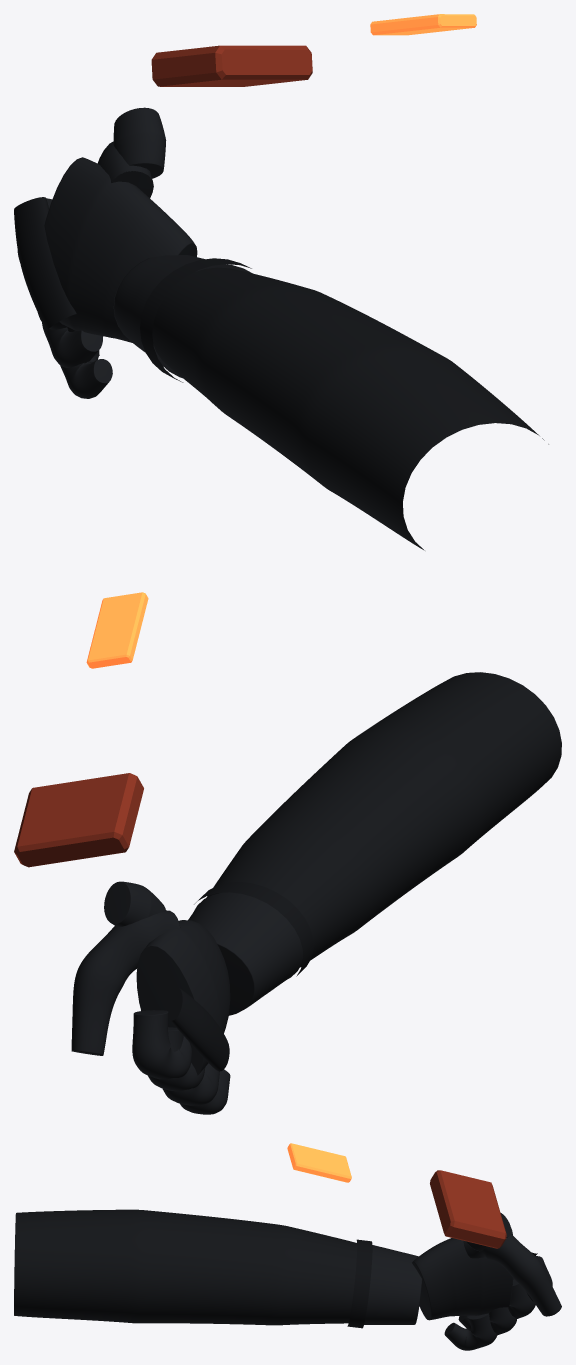
The model's file is hands_ember_charge.glb.
The picture shows the model from 3 angles, top to bottom: view 1: azimuth 30°, elevation 25°; view 2: azimuth 150°, elevation 25°; view 3: azimuth 270°, elevation 25°; orthographic projection. The views are drawn at different scales.
Visible parts, largest first — view 1: hand_l_forearm, hand_l_palm, hand_l_cuff_plate, hand_l_knuckle_panel, hand_l_cuff, hand_l_web, hand_l_cuff_strap, hand_l_lamp, hand_l_ring, hand_l_little, hand_l_thumb; view 2: hand_l_forearm, hand_l_cuff_plate, hand_l_cuff, hand_l_palm, hand_l_thumb, hand_l_lamp, hand_l_index, hand_l_knuckle_panel, hand_l_web, hand_l_cuff_strap, hand_l_ring, hand_l_middle (+1 smaller); view 3: hand_l_forearm, hand_l_palm, hand_l_cuff_plate, hand_l_cuff, hand_l_thumb, hand_l_lamp, hand_l_cuff_strap, hand_l_little, hand_l_ring, hand_l_middle.
Part boxes in pixels (box(x1,y1,x2,y2)): hand_l_forearm: box(152, 267, 548, 550); hand_l_palm: box(44, 157, 197, 342); hand_l_cuff_plate: box(151, 45, 312, 86); hand_l_knuckle_panel: box(14, 197, 76, 330); hand_l_cuff: box(113, 255, 252, 378); hand_l_web: box(113, 107, 166, 178); hand_l_cuff_strap: box(140, 258, 251, 382); hand_l_lamp: box(370, 14, 476, 35); hand_l_ring: box(42, 322, 102, 367); hand_l_little: box(60, 327, 112, 398); hand_l_thumb: box(97, 141, 153, 197); hand_l_forearm: box(206, 672, 561, 967); hand_l_cuff_plate: box(14, 773, 143, 867); hand_l_cuff: box(188, 892, 302, 1015); hand_l_palm: box(136, 920, 230, 1075); hand_l_thumb: box(71, 910, 180, 1055); hand_l_lamp: box(86, 592, 148, 668); hand_l_index: box(132, 1010, 191, 1079); hand_l_knuckle_panel: box(170, 988, 229, 1071); hand_l_web: box(104, 881, 165, 926); hand_l_cuff_strap: box(194, 882, 313, 976); hand_l_ring: box(162, 1063, 219, 1105); hand_l_middle: box(148, 1027, 205, 1091); hand_l_forearm: box(14, 1209, 357, 1325); hand_l_palm: box(412, 1228, 513, 1320); hand_l_cuff_plate: box(430, 1170, 506, 1248); hand_l_cuff: box(364, 1245, 422, 1324); hand_l_thumb: box(463, 1234, 561, 1316); hand_l_lamp: box(287, 1143, 351, 1182); hand_l_cuff_strap: box(347, 1239, 372, 1328); hand_l_little: box(444, 1313, 497, 1350); hand_l_ring: box(458, 1307, 516, 1335); hand_l_middle: box(508, 1278, 535, 1318).
Bounding box in the file's own units: 0.1383 × 0.1893 × 0.3439.
